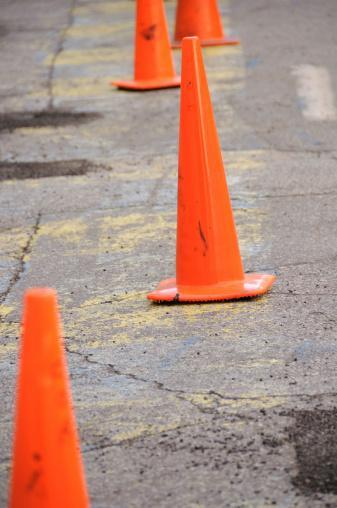Cone: (150, 36, 272, 302), (7, 287, 90, 508), (108, 1, 188, 85)
